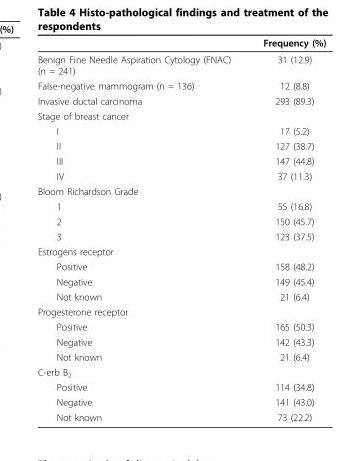table: (36, 36, 325, 422)
table column: (36, 36, 246, 422), (246, 36, 325, 422)
table column header: (36, 36, 325, 50)
table projected row header: (36, 108, 325, 123), (36, 183, 325, 198), (36, 243, 325, 258), (36, 303, 325, 318), (36, 364, 325, 379)
table row: (36, 50, 325, 77), (36, 77, 325, 93), (36, 318, 325, 334), (36, 93, 325, 108), (36, 108, 325, 123), (36, 123, 325, 138), (36, 138, 325, 153), (36, 153, 325, 168), (36, 168, 325, 183), (36, 183, 325, 198), (36, 198, 325, 213), (36, 213, 325, 228), (36, 228, 325, 243), (36, 243, 325, 258), (36, 258, 325, 273), (36, 273, 325, 288), (36, 288, 325, 303), (36, 303, 325, 318), (36, 334, 325, 349), (36, 349, 325, 364), (36, 364, 325, 379), (36, 379, 325, 394), (36, 394, 325, 409), (36, 36, 325, 50), (36, 409, 325, 422)
